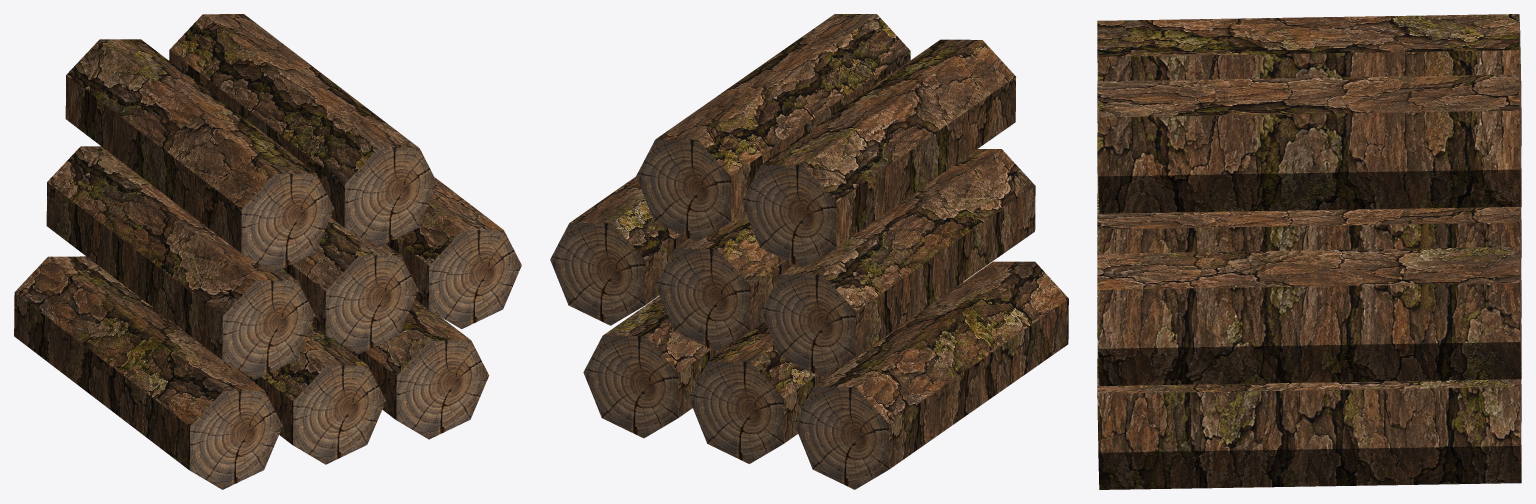
The model's file is darkforest02-props.glb.
The picture shows the model from 3 angles, left to right: view 1: azimuth 30°, elevation 25°; view 2: azimuth 150°, elevation 25°; view 3: azimuth 270°, elevation 25°; orthographic projection. The views are drawn at different scales.
Visible parts, largest first — view 1: woodpile; view 2: woodpile; view 3: woodpile.
Part boxes in pixels (x1,y1,x2,y2): woodpile: (14, 14, 521, 489); woodpile: (550, 14, 1068, 489); woodpile: (1097, 14, 1521, 489).
Bounding box in the file's own units: 0.6111 × 0.5455 × 0.5631.
2 materials, 2 textured.
